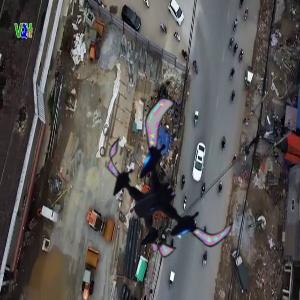drone: (92, 118, 245, 271)
